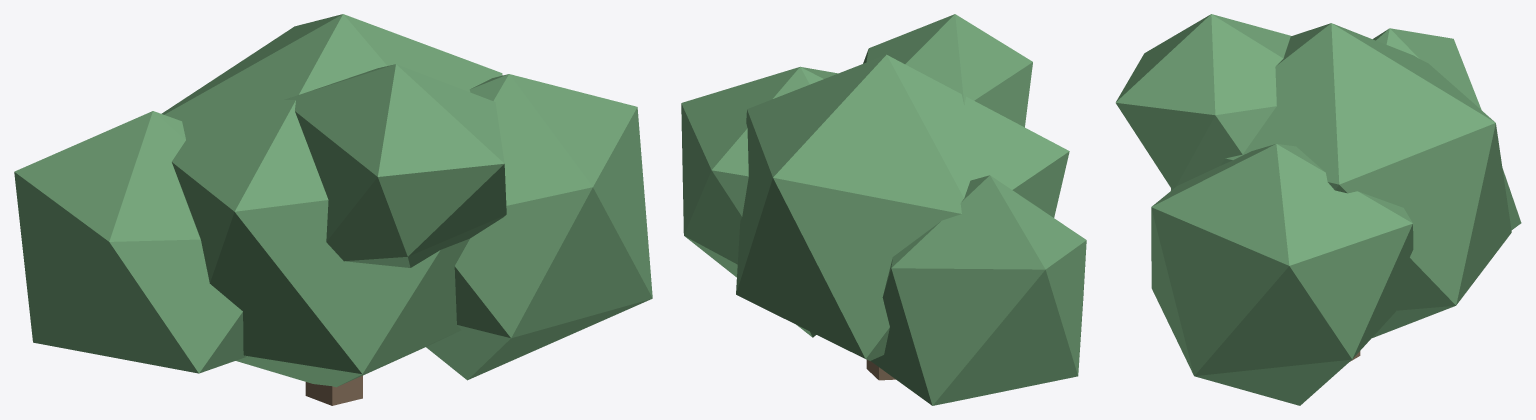
The model's file is arbusto.glb.
3 views of the same model, side by side, from view 1: azimuth 30°, elevation 25°; view 2: azimuth 150°, elevation 25°; view 3: azimuth 270°, elevation 25° (orthographic). The views are drawn at different scales.
Parts seen in each view (by area): view 1: arbusto; view 2: arbusto; view 3: arbusto.
Boxes of the visible parts, box(x1,y1,x2,y2) form: arbusto: box(14, 14, 652, 405); arbusto: box(681, 14, 1086, 405); arbusto: box(1115, 14, 1521, 405).
Size of the model in its own units: 1.03 by 0.6943 by 0.7526.
